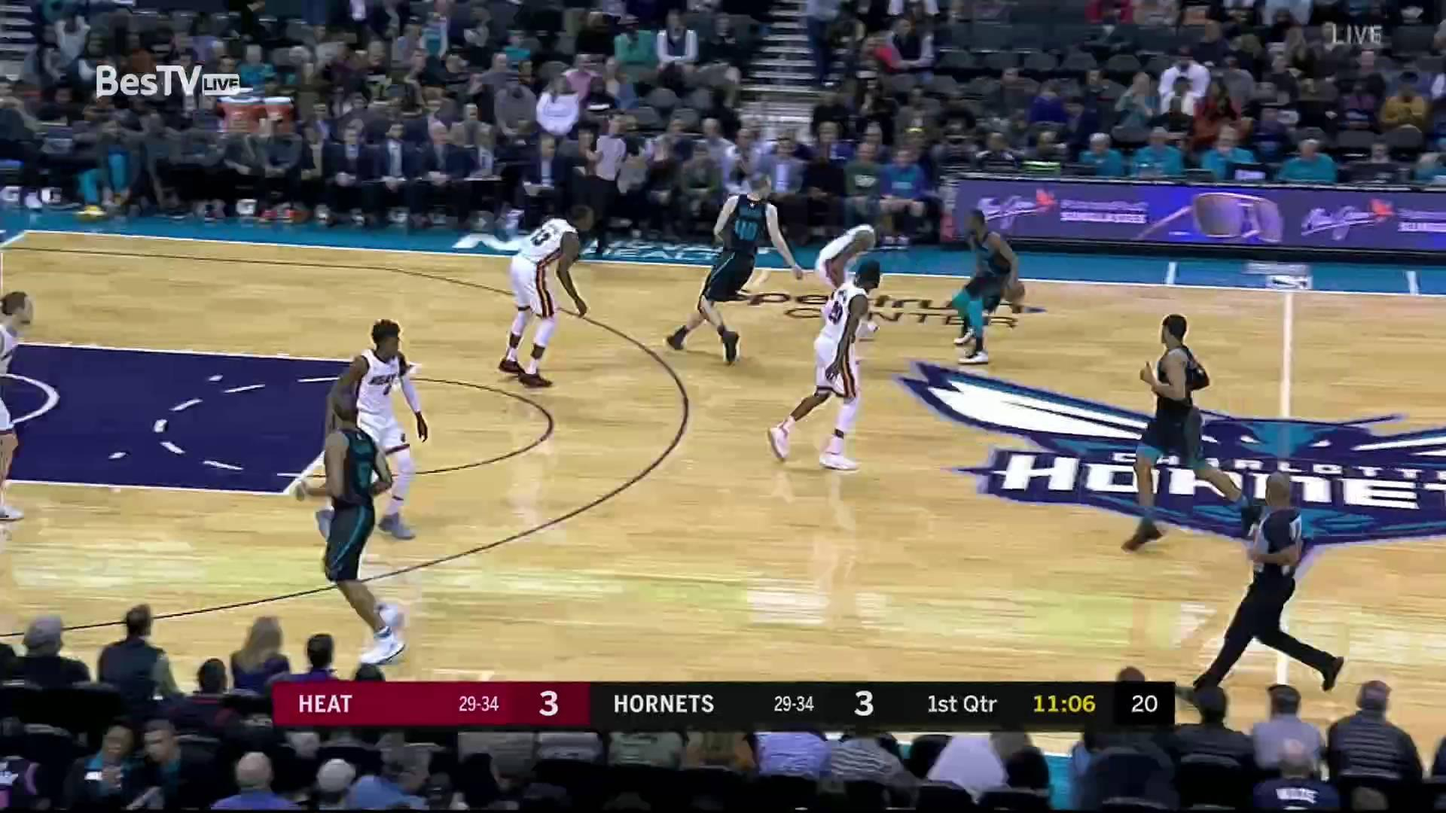basketball: (1002, 277, 1026, 304)
